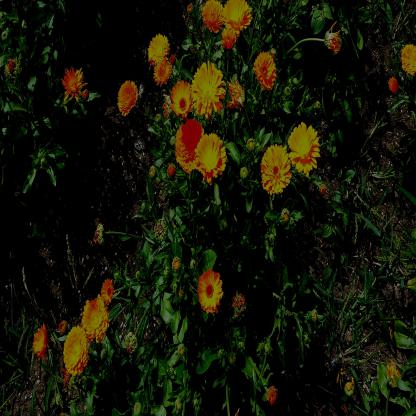marigold: (289, 124, 320, 180), (191, 62, 222, 115), (260, 143, 290, 196), (175, 120, 201, 169), (82, 295, 109, 341), (63, 328, 88, 374), (198, 136, 224, 177), (223, 1, 251, 34), (200, 271, 221, 311), (117, 80, 138, 116), (254, 51, 276, 84), (62, 67, 83, 101), (172, 80, 190, 116), (147, 32, 168, 58), (400, 41, 416, 75), (203, 0, 222, 27), (153, 61, 171, 84), (100, 278, 115, 302), (388, 76, 398, 94)
